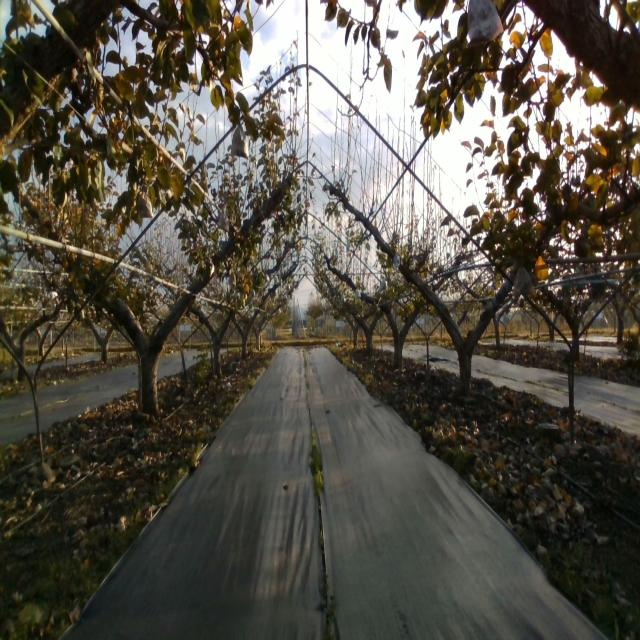pearbags: (466, 0, 504, 44), (512, 264, 534, 299), (230, 120, 248, 160), (136, 191, 153, 219), (218, 210, 230, 232)
